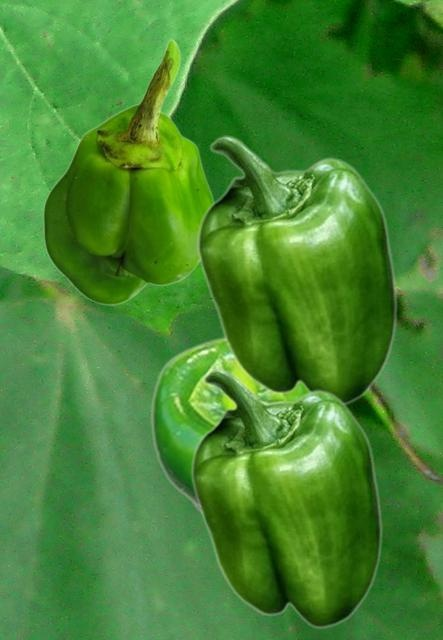bell_pepper: (196, 135, 397, 405), (190, 368, 382, 628), (42, 38, 214, 304), (149, 334, 305, 515)
